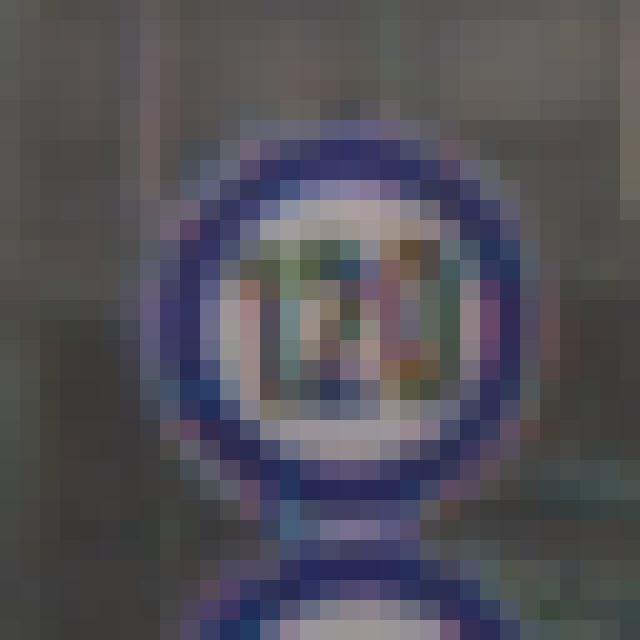SPEED LIMIT 120: (150, 116, 528, 530)
